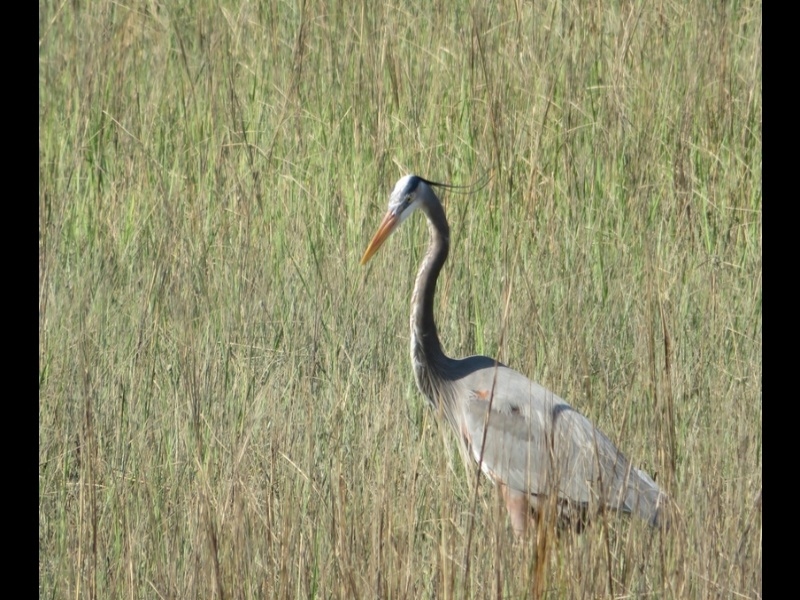heron: (361, 172, 671, 544)
